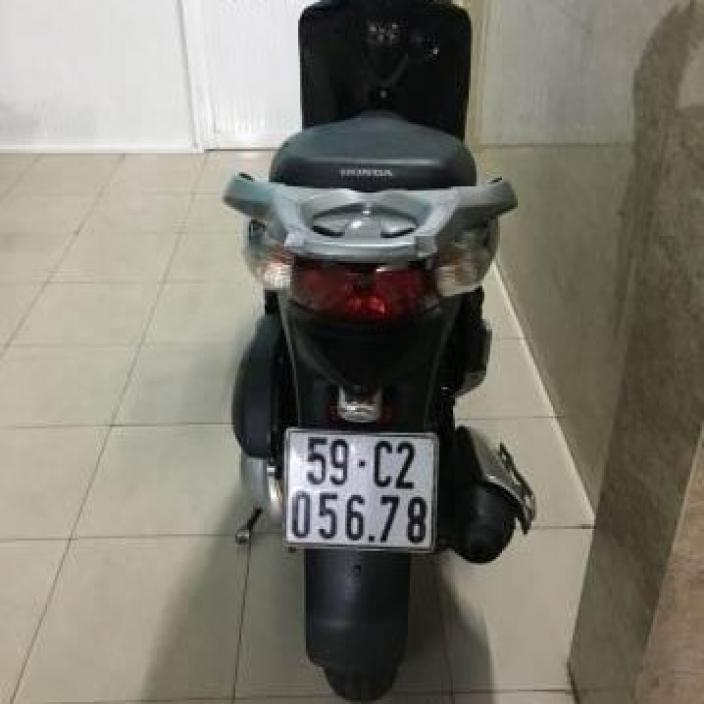numplate: (275, 420, 441, 557)
